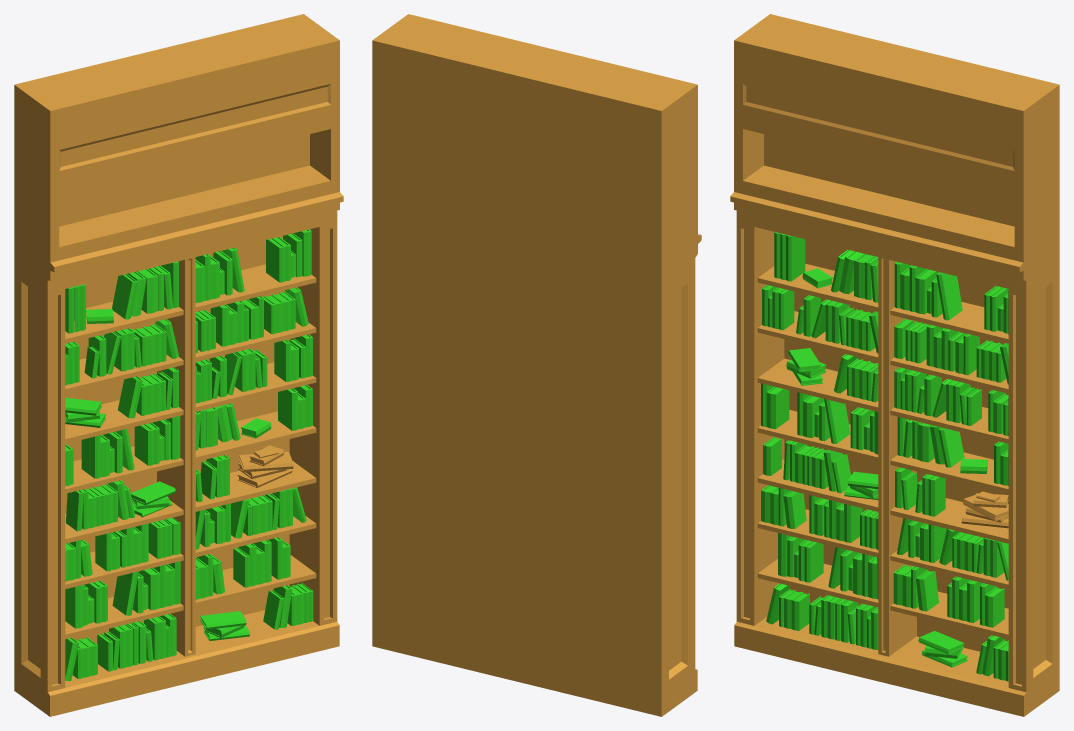
Rendered from Sm_Bookcase_Tall_Modular_Filled_2m_A.fbx.
3 views of the same model, side by side, from view 1: azimuth 30°, elevation 25°; view 2: azimuth 150°, elevation 25°; view 3: azimuth 330°, elevation 25° (orthographic).
Visible parts, largest first — view 1: bookcase-tall-modular-filled-2m-a; view 2: bookcase-tall-modular-filled-2m-a; view 3: bookcase-tall-modular-filled-2m-a.
Part boxes in pixels (x1,y1,x2,y2): bookcase-tall-modular-filled-2m-a: (14, 14, 343, 716); bookcase-tall-modular-filled-2m-a: (372, 14, 701, 716); bookcase-tall-modular-filled-2m-a: (730, 14, 1059, 716).
Bounding box in the file's own units: 2 × 4 × 0.4778.
